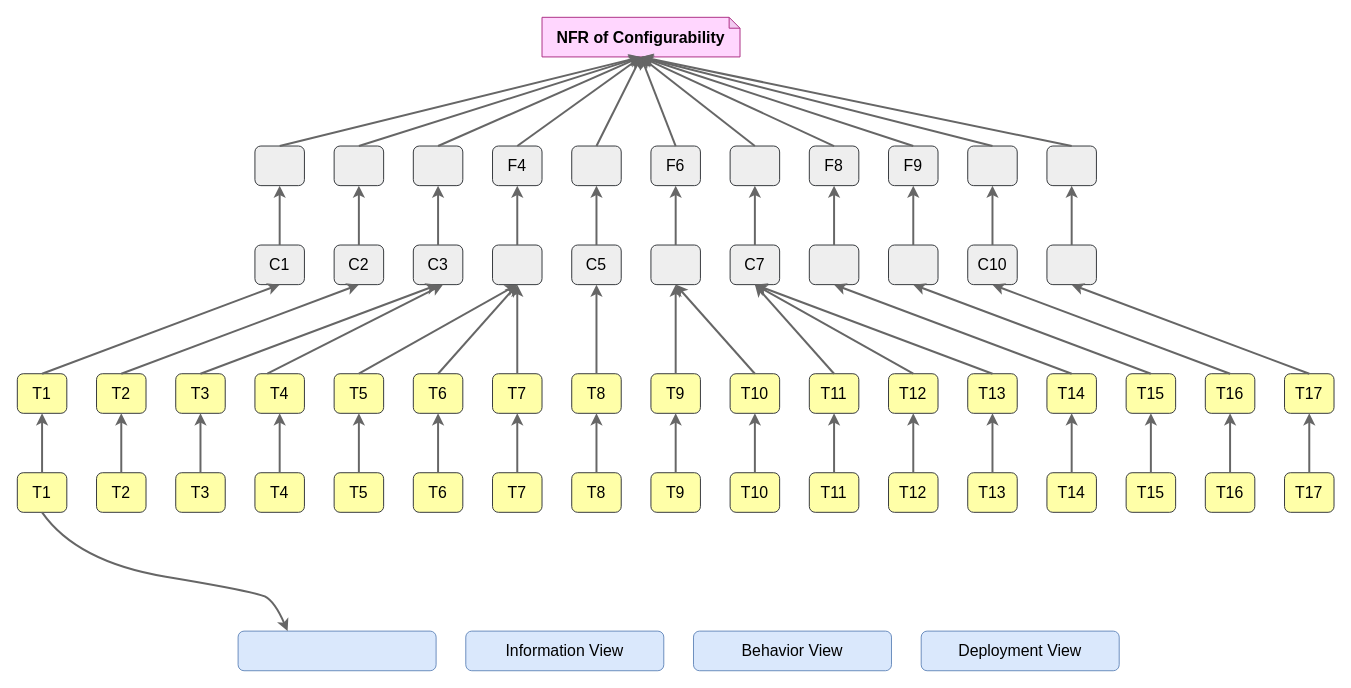
This 1351x688 diagram has some shape labels left out. Here are the shapes that lost their labels. From the top down, the centre of each, then its label:
At (x=279, y=165): "F1".
At (x=358, y=165): "F2".
At (x=437, y=165): "F3".
At (x=596, y=165): "F5".
At (x=754, y=165): "F7".
At (x=992, y=165): "F10".
At (x=1071, y=165): "F11".
At (x=517, y=264): "C4".
At (x=675, y=264): "C6".
At (x=833, y=264): "C8".
At (x=913, y=264): "C9".
At (x=1071, y=264): "C11".
At (x=336, y=650): "Functional View".
